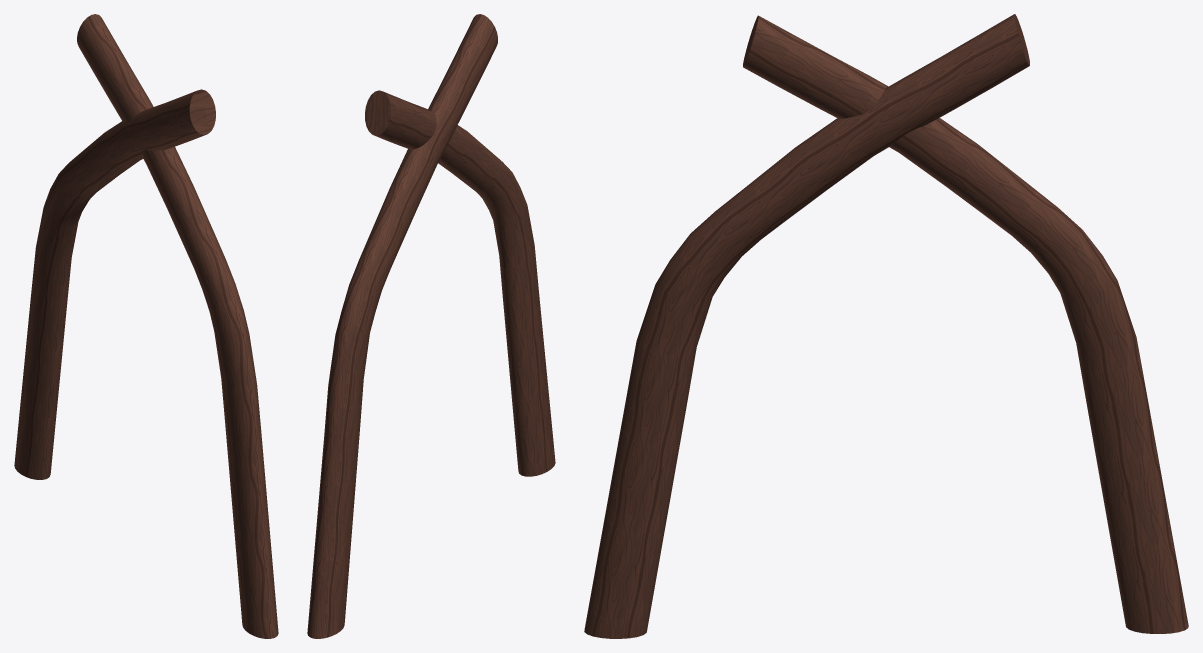
File: marco sin dragones.fbx
3 views of the same model, side by side, from view 1: azimuth 30°, elevation 25°; view 2: azimuth 150°, elevation 25°; view 3: azimuth 270°, elevation 25° (orthographic). The views are drawn at different scales.
Parts seen in each view (by area): view 1: Marco_sin_dragones; view 2: Marco_sin_dragones; view 3: Marco_sin_dragones.
Part boxes in pixels (x1,y1,x2,y2): Marco_sin_dragones: [14, 14, 278, 638]; Marco_sin_dragones: [307, 14, 555, 638]; Marco_sin_dragones: [584, 14, 1188, 638].
Bounding box in the file's own units: 0.7415 × 10.32 × 9.22.
